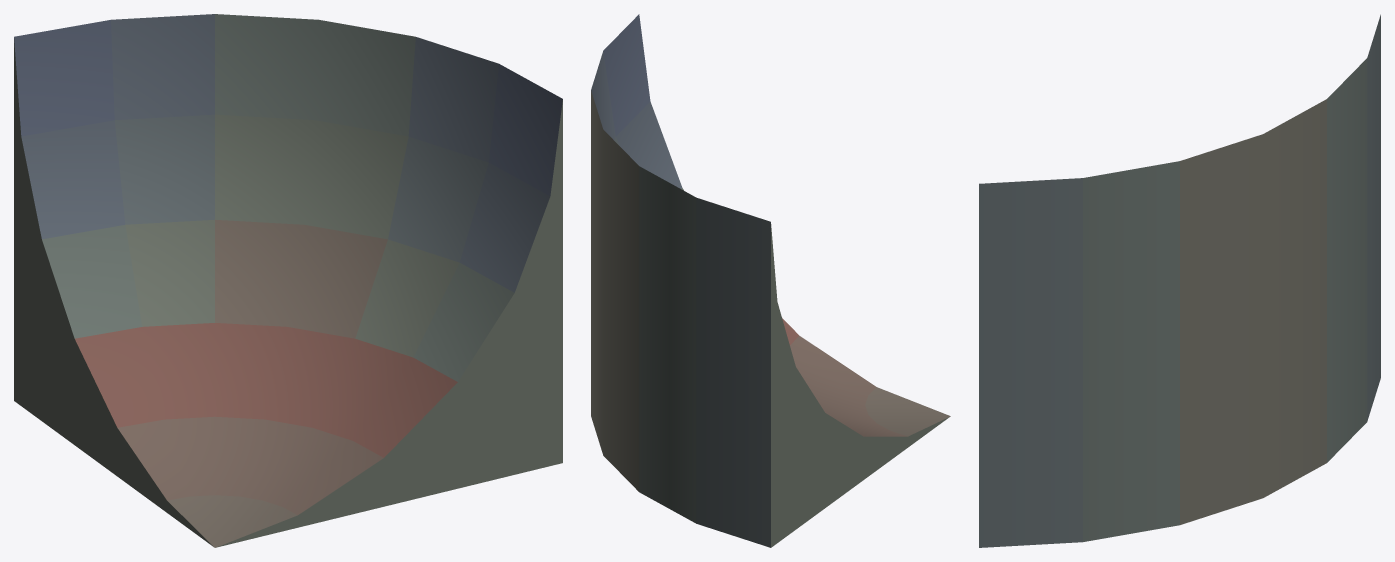
The model's file is Halfpipe_half_bend_in.fbx.
3 renders of one model, left to right at view 1: azimuth 30°, elevation 25°; view 2: azimuth 150°, elevation 25°; view 3: azimuth 270°, elevation 25°, orthographic. The views are drawn at different scales.
Visible parts, largest first — view 1: Mesh; view 2: Mesh; view 3: Mesh.
Boxes of the visible parts, <box> form: Mesh: <box>14,14,562,547</box>; Mesh: <box>591,14,950,547</box>; Mesh: <box>979,14,1380,547</box>.
Bounding box in the file's own units: 50 × 50 × 50.
